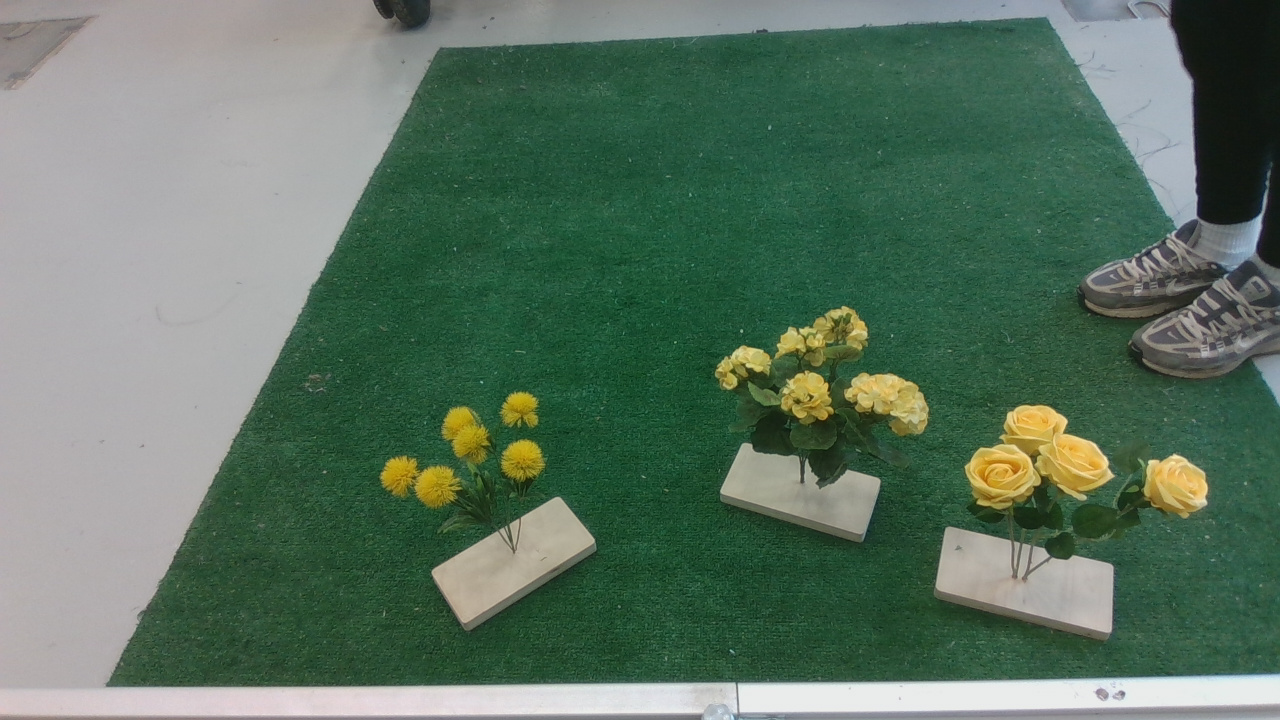dandelion: (375, 390, 574, 545)
geranium: (714, 305, 945, 491)
rose: (959, 402, 1230, 560)
